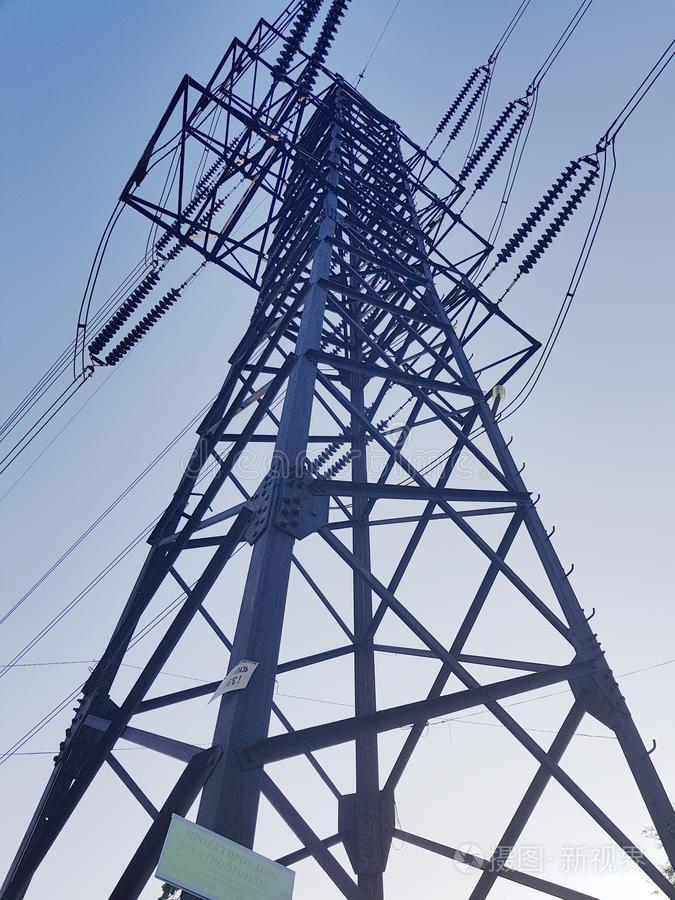insulator: (499, 162, 603, 277), (101, 283, 182, 366), (274, 1, 348, 87), (457, 101, 528, 190), (86, 270, 156, 353), (157, 185, 223, 255), (437, 68, 489, 138)
